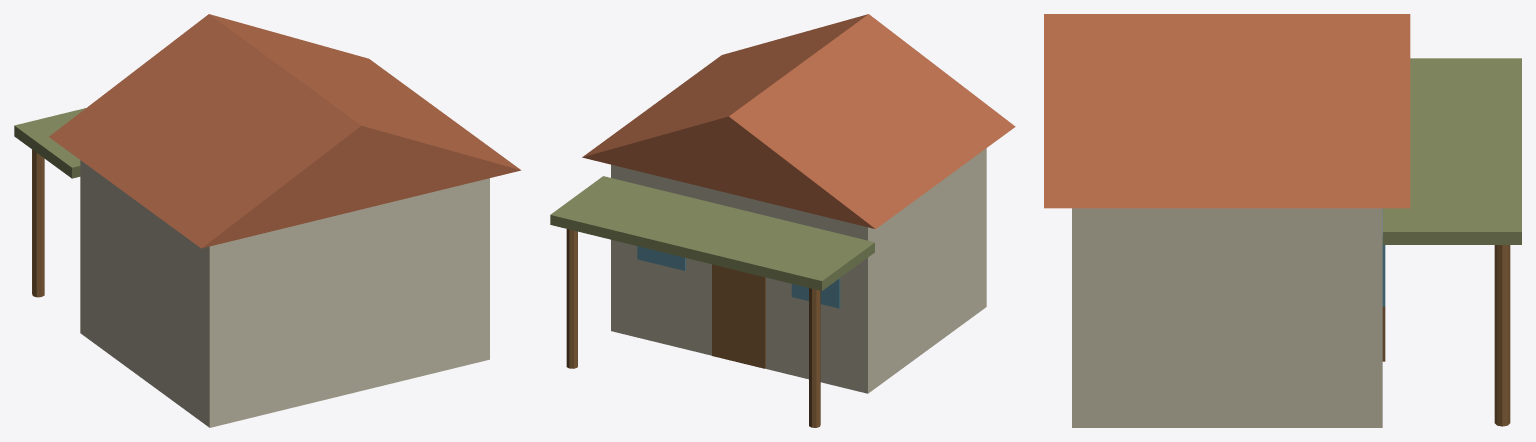
Rendered from hut.glb.
The picture shows the model from 3 angles, left to right: view 1: azimuth 30°, elevation 25°; view 2: azimuth 150°, elevation 25°; view 3: azimuth 270°, elevation 25°; orthographic projection. The views are drawn at different scales.
Parts seen in each view (by area): view 1: HutMesh; view 2: HutMesh; view 3: HutMesh.
Boxes of the visible parts, x1=… form: HutMesh: x1=14, y1=14, x2=521, y2=427; HutMesh: x1=550, y1=14, x2=1015, y2=427; HutMesh: x1=1044, y1=14, x2=1521, y2=427.
Bounding box in the file's own units: 4 × 3.3 × 4.3.
